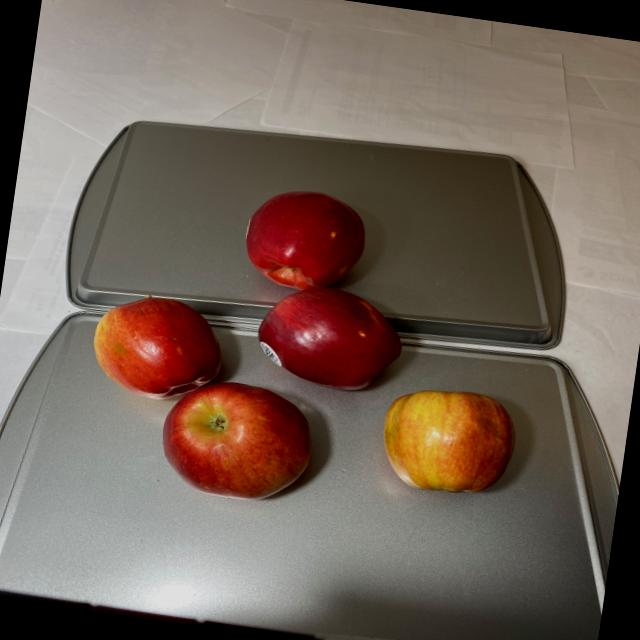apple: (80, 163, 552, 530)
